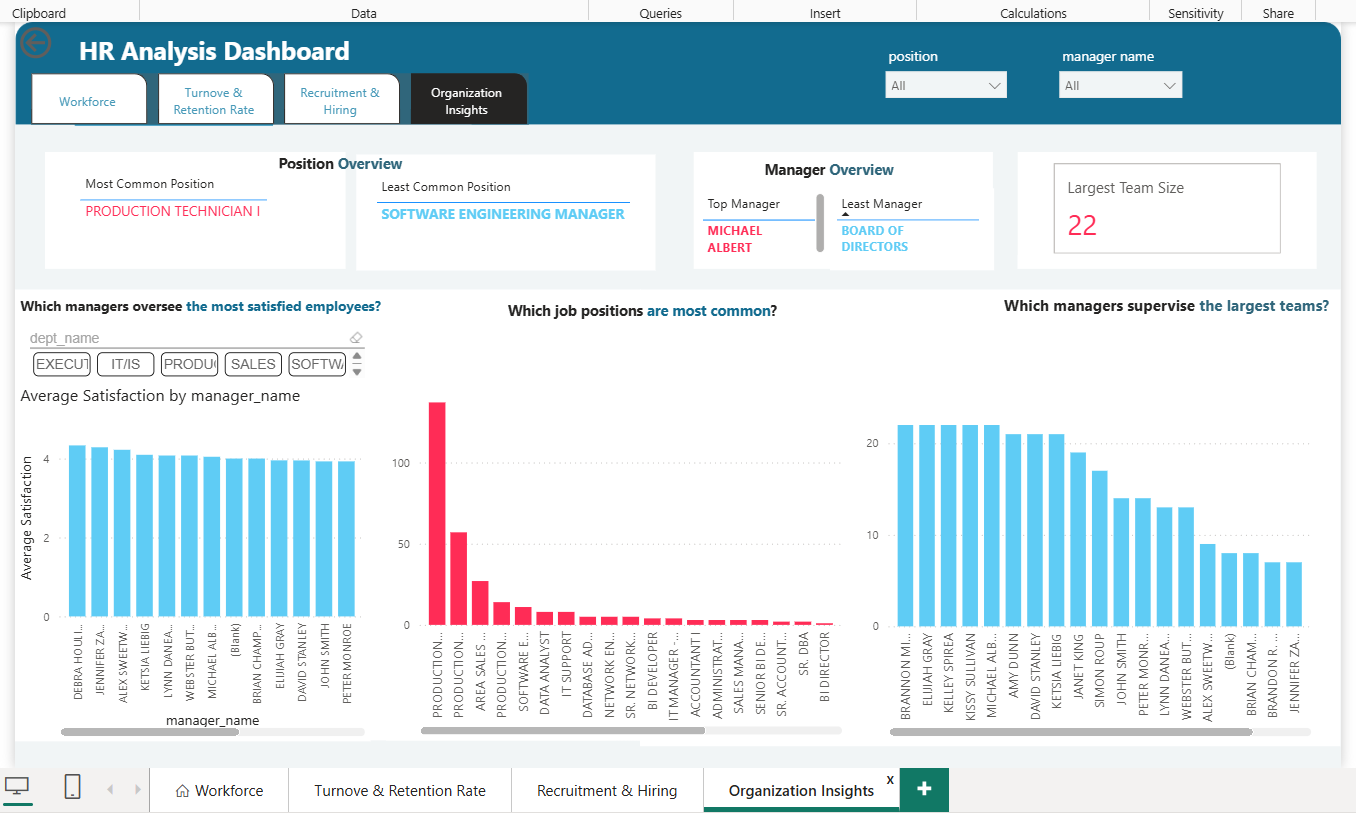

Layout of this report page (visuals, bound fields, positions):
{"tool":"powerbi","page":{"name":"Organization Insights","canvas":[1280,720],"ordinal":3},"visuals":[{"type":"shape","box":[603.8,258,676.1,440.8],"z":0},{"type":"shape","box":[0,258,603.8,435.1],"z":1000},{"type":"shape","box":[29.3,125.5,290.1,113],"z":2000},{"type":"clusteredColumnChart","fields":{"Y":["fact_hr_snapshot.No. of Emp"],"Category":["dim_manager.manager_name"]},"box":[816.4,348.7,439.4,345.8],"z":3000},{"type":"columnChart","fields":{"Category":["dim_position.position"],"Y":["fact_hr_snapshot.No. of Emp"]},"box":[358.6,348.7,445,344.4],"z":4000},{"type":"shape","box":[328.8,127.6,289.1,112],"z":5000},{"type":"shape","box":[655.6,125.5,288.7,113],"z":6000},{"type":"shape","box":[968,125.5,288.7,113],"z":7000},{"type":"textbox","box":[0,259.4,382.7,39.7],"z":8000},{"type":"textbox","box":[949.6,258,324.6,39.7],"z":9000},{"type":"textbox","box":[226.8,121.9,174.3,41.1],"z":10000},{"type":"textbox","box":[653.4,127.6,263.6,39.7],"z":11000},{"type":"slicer","fields":{"Values":["dim_position.position"]},"box":[830.6,18.4,137.5,70.9],"z":12000},{"type":"textbox","box":[57.2,5.6,344.5,58.6],"z":13000},{"type":"slicer","fields":{"Values":["dim_manager.manager_name"]},"box":[997.8,18.4,138.9,70.9],"z":14000},{"type":"ChicletSlicer1448559807354","fields":{"Category":["dim_department.dept_name"]},"box":[9.9,293.4,333.1,55.3],"z":15000},{"type":"cardVisual","fields":{"Data":["fact_hr_snapshot.Largest Team Size"]},"box":[997.8,131.8,229.6,97.8],"z":16000},{"type":"actionButton","box":[0,0,100,40],"z":17000},{"type":"textbox","box":[470.6,263.6,287.7,31.2],"z":18000},{"type":"columnChart","fields":{"Category":["dim_manager.manager_name"],"Y":["fact_hr_snapshot.Average Satisfaction"]},"box":[0,348.7,343,345.8],"z":19000},{"type":"tableEx","fields":{"Values":["fact_hr_snapshot.Least Manager"]},"box":[786.6,160.2,158.7,79.4],"z":20000},{"type":"tableEx","fields":{"Values":["fact_hr_snapshot.Top Manager"]},"box":[657.6,160.2,129,69.4],"z":21000},{"type":"tableEx","fields":{"Values":["fact_hr_snapshot.Most Common Position"]},"box":[56.7,141.7,211.2,83.6],"z":22000},{"type":"tableEx","fields":{"Values":["fact_hr_snapshot.Least Common Position"]},"box":[343,143.1,266.5,80.8],"z":23000}]}

Visuals, with their boxes on the page's 1280x720 design canvas (x1, y1, x2, y2). These are canvas units, not pixel positions in the 1356x813 screenshot, which may show the page scaled, cropped or inside an application window:
shape: [604,258,1280,699]
shape: [0,258,604,693]
shape: [29,126,319,238]
clusteredColumnChart - fact_hr_snapshot.No. of Emp x dim_manager.manager_name: [816,349,1256,694]
columnChart - dim_position.position x fact_hr_snapshot.No. of Emp: [359,349,804,693]
shape: [329,128,618,240]
shape: [656,126,944,238]
shape: [968,126,1257,238]
textbox: [0,259,383,299]
textbox: [950,258,1274,298]
textbox: [227,122,401,163]
textbox: [653,128,917,167]
slicer - dim_position.position: [831,18,968,89]
textbox: [57,6,402,64]
slicer - dim_manager.manager_name: [998,18,1137,89]
ChicletSlicer1448559807354 - dim_department.dept_name: [10,293,343,349]
cardVisual - fact_hr_snapshot.Largest Team Size: [998,132,1227,230]
actionButton: [0,0,100,40]
textbox: [471,264,758,295]
columnChart - dim_manager.manager_name x fact_hr_snapshot.Average Satisfaction: [0,349,343,694]
tableEx - fact_hr_snapshot.Least Manager: [787,160,945,240]
tableEx - fact_hr_snapshot.Top Manager: [658,160,787,230]
tableEx - fact_hr_snapshot.Most Common Position: [57,142,268,225]
tableEx - fact_hr_snapshot.Least Common Position: [343,143,610,224]
